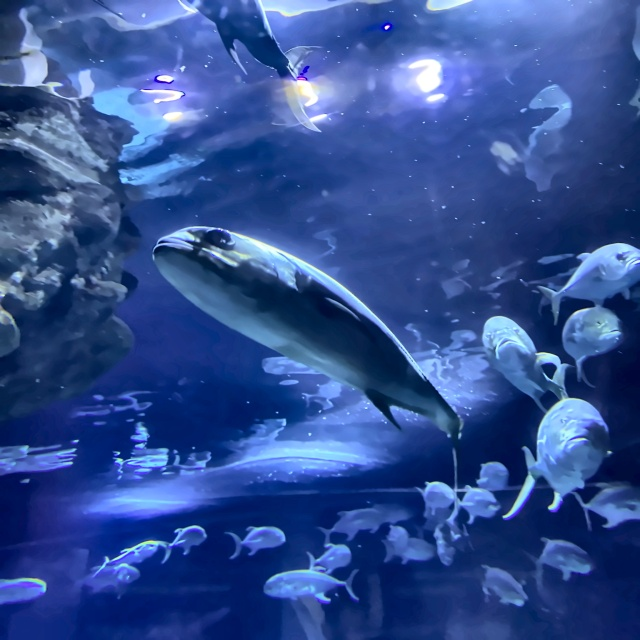fish: (151, 226, 461, 438), (186, 0, 320, 134), (504, 399, 612, 518), (483, 316, 569, 408), (539, 244, 639, 316), (562, 307, 622, 386), (575, 484, 639, 533), (263, 570, 356, 602), (529, 538, 592, 578), (64, 566, 138, 594), (482, 566, 527, 607), (228, 526, 287, 555), (322, 510, 383, 538), (158, 526, 207, 559), (452, 487, 500, 520), (432, 518, 461, 572), (383, 537, 434, 565), (0, 578, 46, 606), (104, 541, 158, 564), (306, 543, 352, 568), (418, 482, 450, 515), (362, 503, 410, 522), (476, 463, 508, 489)
